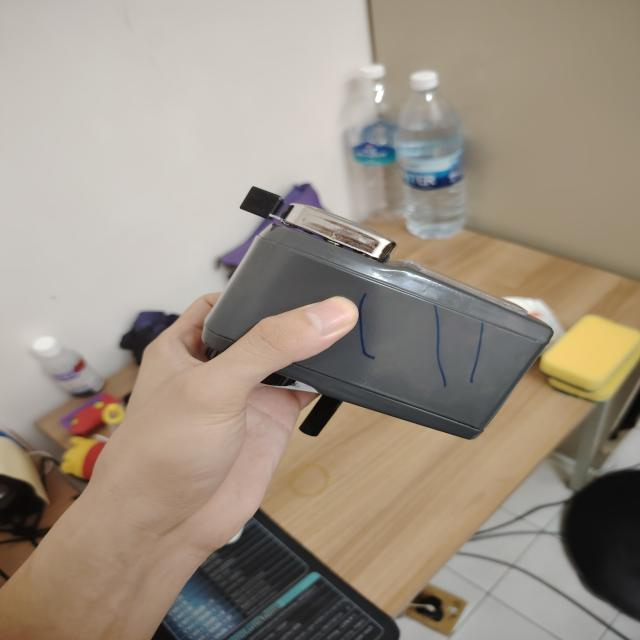sharpener: (202, 187, 553, 439)
